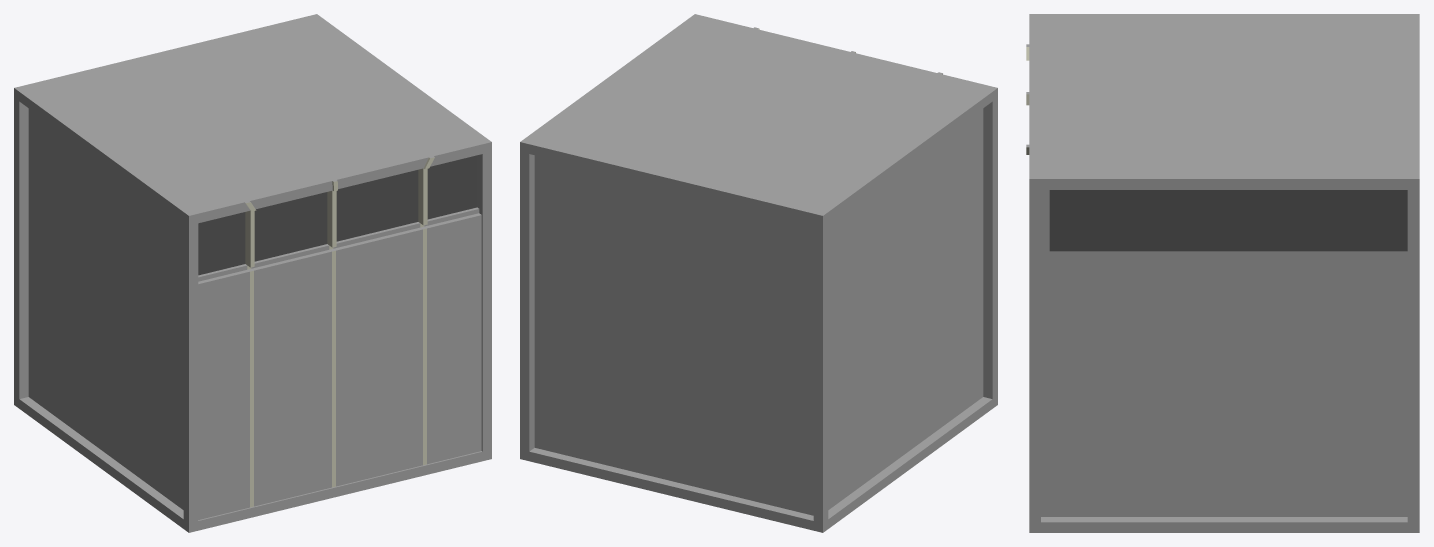
3 renders of one model, left to right at view 1: azimuth 30°, elevation 25°; view 2: azimuth 150°, elevation 25°; view 3: azimuth 270°, elevation 25°, orthographic. The views are drawn at different scales.
Parts seen in each view (by area): view 1: pCube9; view 2: pCube9; view 3: pCube9.
Part boxes in pixels (x1,y1,x2,y2): pCube9: (14, 14, 491, 532); pCube9: (520, 14, 997, 532); pCube9: (1026, 14, 1419, 532).
Bounding box in the file's own units: 6.55 × 6.55 × 6.6.
